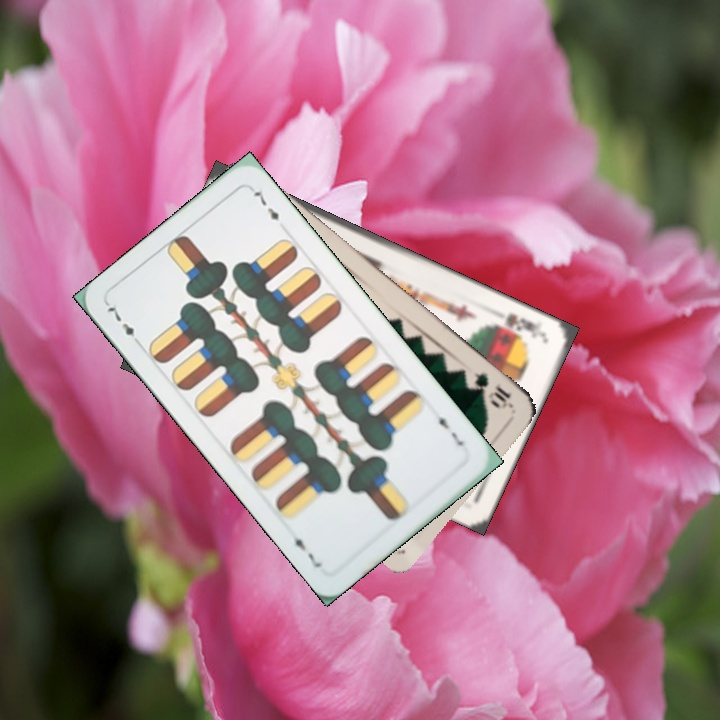E7: (102, 300, 145, 350), (432, 406, 467, 449)
G10: (469, 367, 514, 412)
SK: (488, 309, 546, 340)
